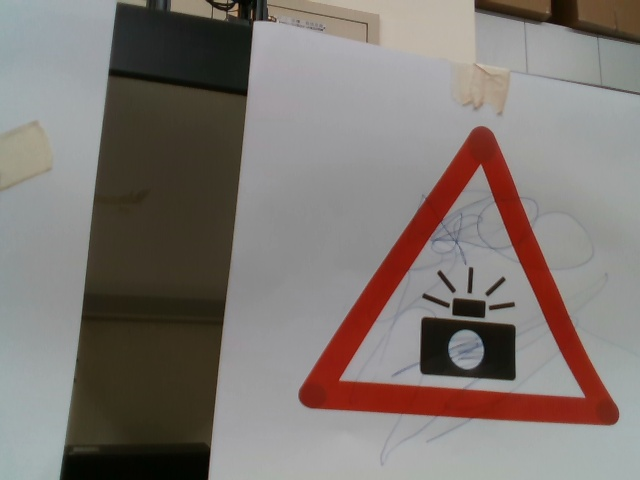camera: (295, 122, 625, 429)
